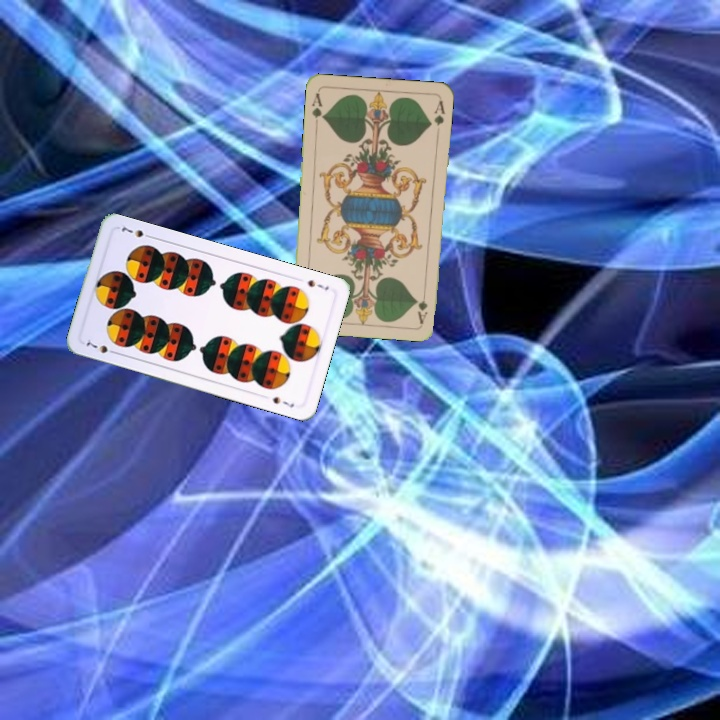GA: (308, 89, 327, 129), (414, 285, 430, 325)
S7: (82, 338, 120, 357), (304, 276, 331, 293)
